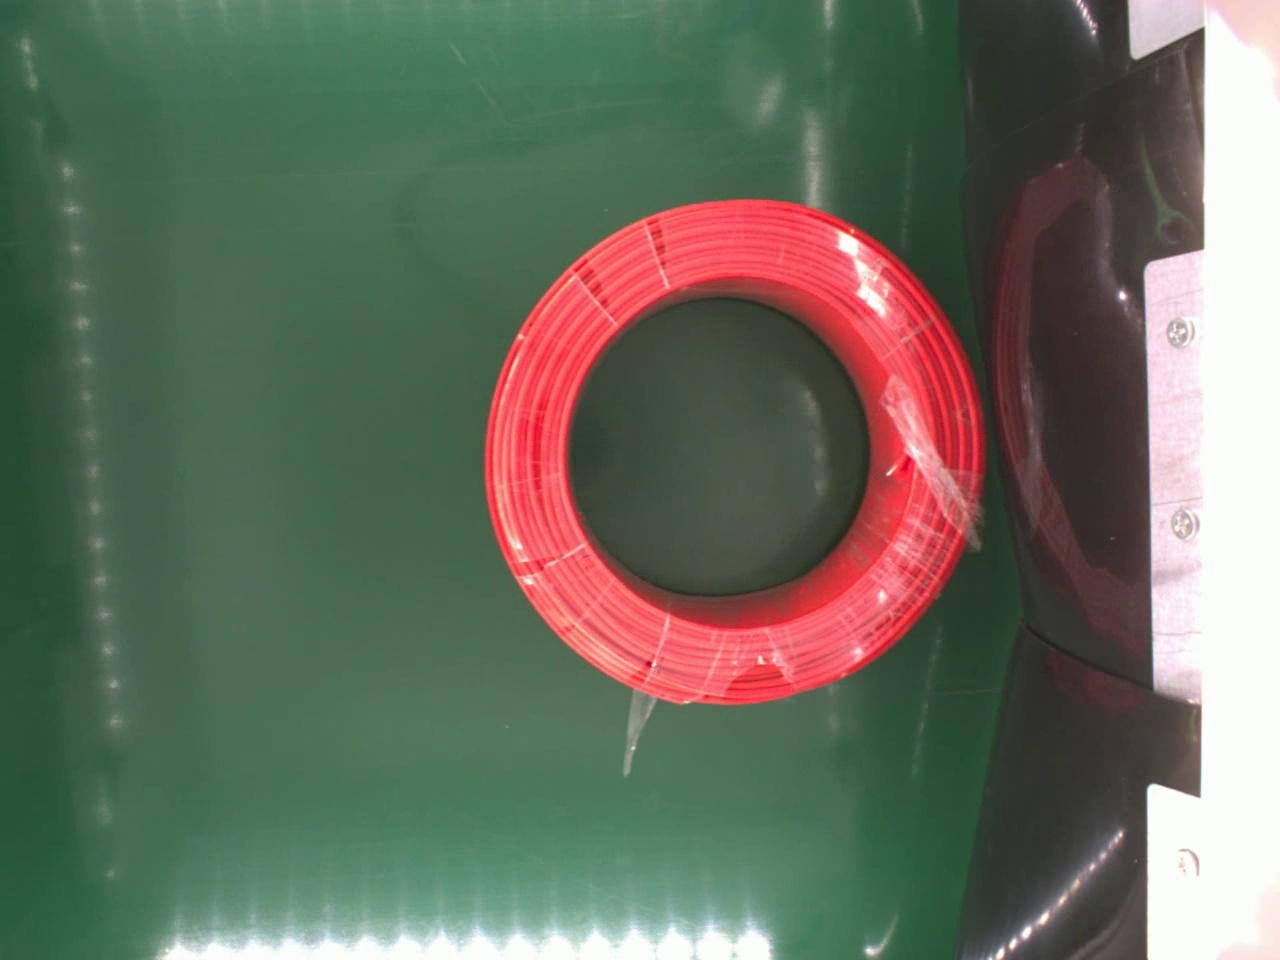red: (481, 196, 985, 708)
